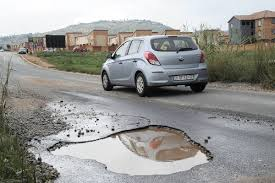pothole: (47, 122, 216, 177)
